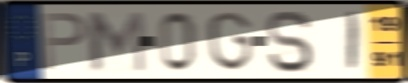0: (156, 9, 199, 74)
G: (205, 10, 256, 74)
I: (344, 9, 362, 74)
M: (84, 9, 149, 74)
P: (39, 10, 89, 73)
S: (265, 8, 316, 75)
